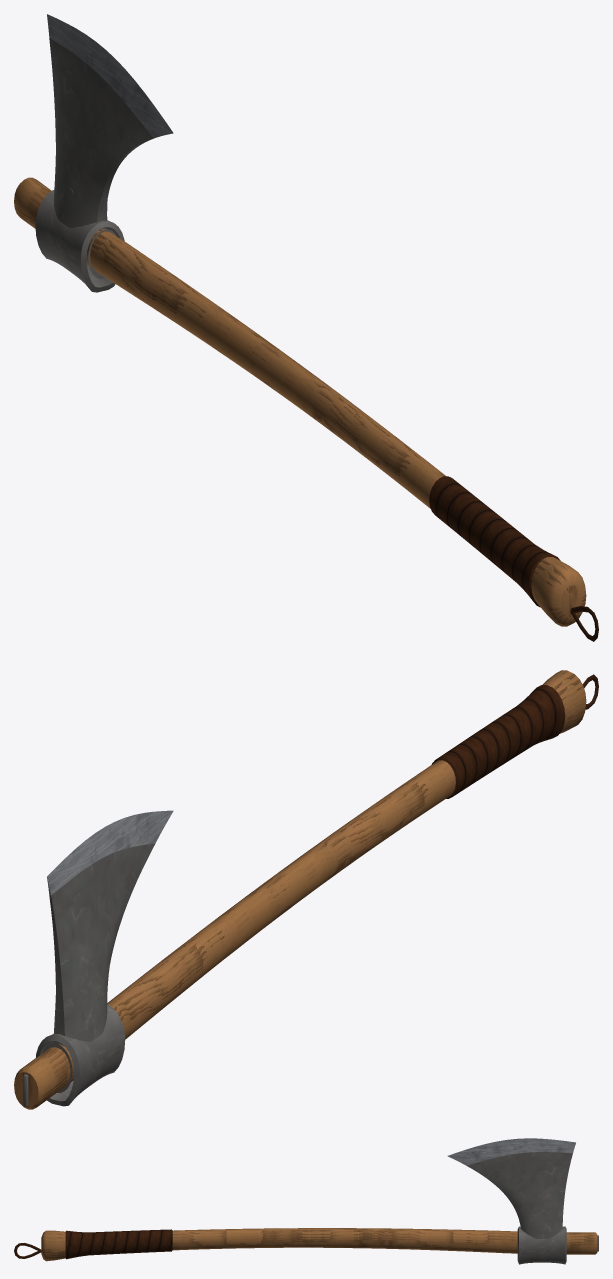
File: axe.glb
3 views of the same model, one above another, from view 1: azimuth 30°, elevation 25°; view 2: azimuth 150°, elevation 25°; view 3: azimuth 270°, elevation 25° (orthographic). The views are drawn at different scales.
Visible parts, largest first — view 1: axe; view 2: axe; view 3: axe.
Boxes of the visible parts, left/top/right/bottom form: axe: left=14, top=14, right=598, bottom=641; axe: left=14, top=670, right=598, bottom=1109; axe: left=14, top=1138, right=598, bottom=1264.
Size of the model in its own units: 0.0385 by 0.2019 by 0.8607.
Materials: 4 (4 with a texture image).
